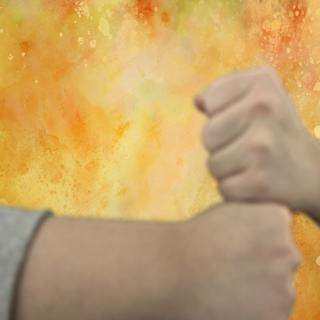CAREFUL: (49, 68, 320, 319)
